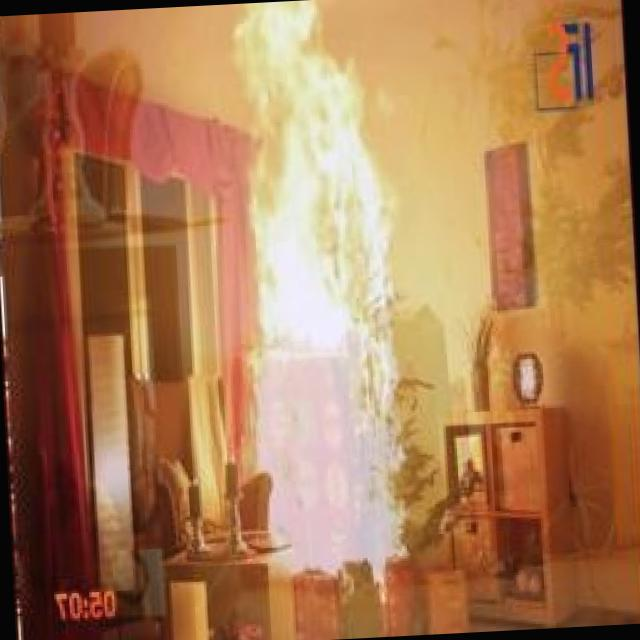fire: (208, 0, 449, 572)
